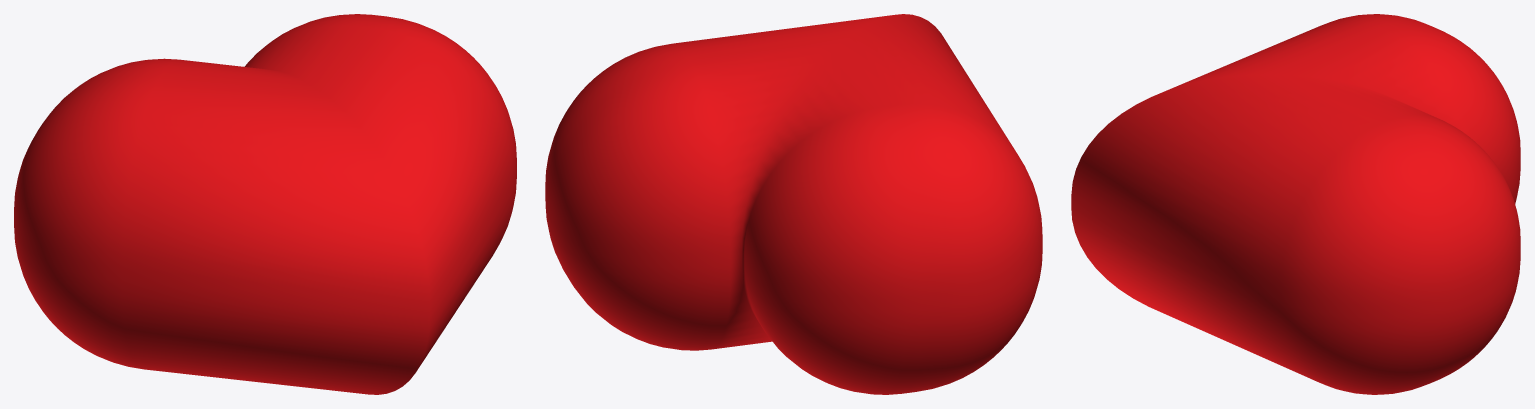
Rendered from Heart.fbx.
3 views of the same model, side by side, from view 1: azimuth 30°, elevation 25°; view 2: azimuth 150°, elevation 25°; view 3: azimuth 270°, elevation 25° (orthographic). The views are drawn at different scales.
Visible parts, largest first — view 1: Cube; view 2: Cube; view 3: Cube.
Part boxes in pixels (<box>): Cube: <box>14,14,516,394</box>; Cube: <box>545,14,1042,394</box>; Cube: <box>1071,14,1520,394</box>.
Size of the model in its own units: 13964 by 8077 by 12641.
